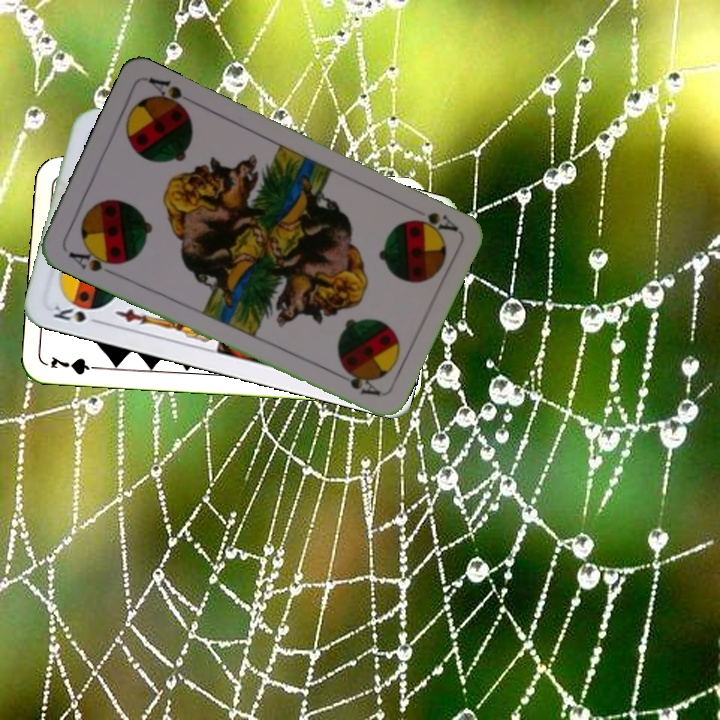G7: (46, 352, 105, 377)
SA: (64, 242, 122, 278), (405, 208, 460, 237)
SK: (47, 301, 105, 327)
